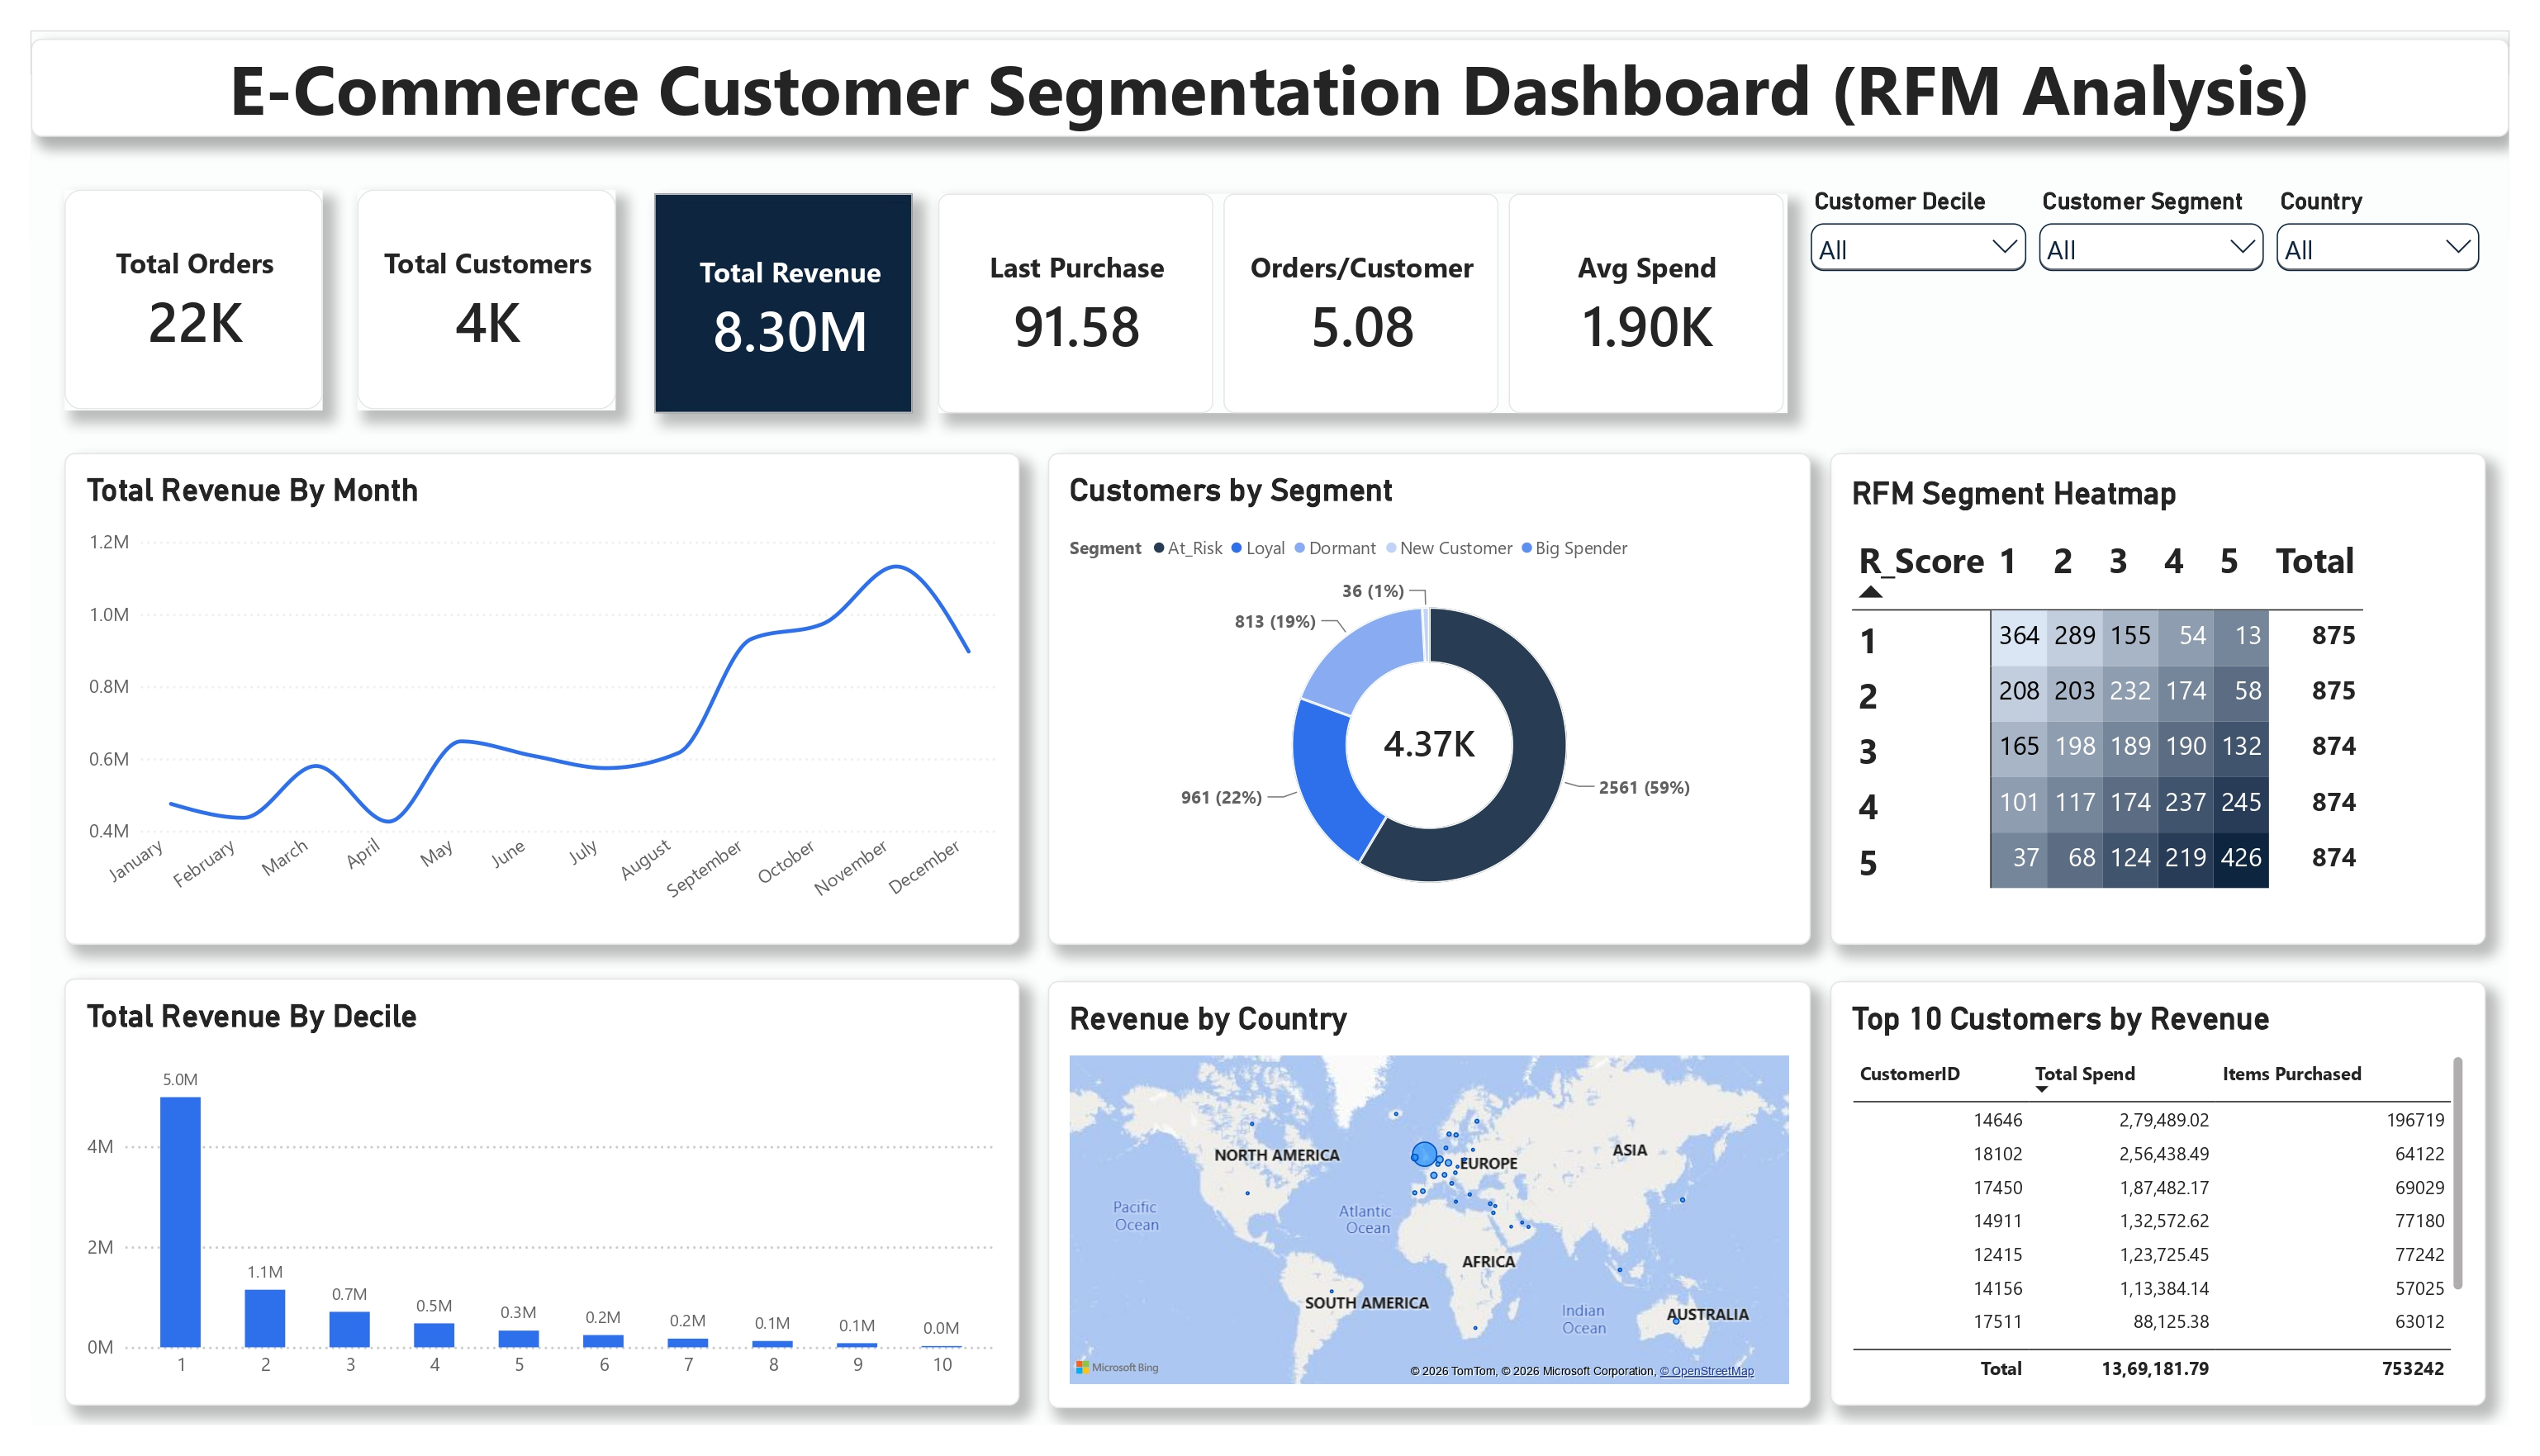

Layout of this report page (visuals, bound fields, positions):
{"tool":"powerbi","page":{"name":"Page 1","canvas":[1920,1080],"ordinal":0},"visuals":[{"type":"cardVisual","fields":{"Data":["cleaned_data.Total Orders"]},"box":[26,123.4,200,171],"z":0},{"type":"cardVisual","fields":{"Data":["cleaned_data.Total Customers"]},"box":[253.2,123.4,200,171],"z":1000},{"type":"cardVisual","fields":{"Data":["cleaned_data.Total Revenue"]},"box":[482.6,125.5,200,171],"z":2000},{"type":"cardVisual","fields":{"Data":["rfm_final_v2.Avg Recency","rfm_final_v2.Avg Frequency","rfm_final_v2.Avg Monetary"]},"box":[703.3,125.5,657.9,171],"z":3000},{"type":"pivotTable","title":"RFM Segment Heatmap","fields":{"Columns":["rfm_final_v2.F_Score"],"Rows":["rfm_final_v2.R_Score"],"Values":["CountNonNull(rfm_final_v2.CustomerID)"]},"box":[1393.7,326.8,508.6,380.9],"z":4000},{"type":"clusteredColumnChart","title":"Total Revenue By Decile","fields":{"Category":["rfm_final_v2.Decile"],"Y":["cleaned_data.Total Revenue"]},"box":[26,733.6,740.1,331.1],"z":5000},{"type":"lineChart","title":"Total Revenue By Month","fields":{"Category":["cleaned_data.InvoiceDate.Variation.Date Hierarchy.Month"],"Y":["cleaned_data.Total Revenue"]},"box":[26,326.8,740.1,380.9],"z":6000},{"type":"textbox","box":[0,6.5,1919.6,75.7],"z":7000},{"type":"slicer","fields":{"Values":["rfm_final_v2.Decile"]},"box":[1374,121.2,177.5,73.6],"z":8000},{"type":"slicer","fields":{"Values":["rfm_final_v2.Cust_Status"]},"box":[1551.5,121.2,184,73.6],"z":9000},{"type":"slicer","fields":{"Values":["cleaned_data.Country"]},"box":[1735.4,121.2,166.6,73.6],"z":10000},{"type":"donutChart","title":"Customers by Segment","fields":{"Category":["rfm_final_v2.Cust_Status"],"Y":["CountNonNull(rfm_final_v2.CustomerID)"]},"box":[787.7,326.8,590.8,380.9],"z":11000},{"type":"tableEx","title":"Top 10 Customers by Revenue","fields":{"Values":["rfm_final_v2.CustomerID","cleaned_data.Total Revenue","Sum(cleaned_data.Quantity)"]},"box":[1393.7,735.8,508.6,328.9],"z":12000},{"type":"map","title":"Revenue by Country","fields":{"Category":["cleaned_data.Country"],"Size":["cleaned_data.Total Revenue"]},"box":[787.7,735.8,590.8,331.1],"z":13000}]}

Visuals, with their boxes on the page's 1920x1080 design canvas (x1, y1, x2, y2). These are canvas units, not pixel positions in the 2540x1456 screenshot, which may show the page scaled, cropped or inside an application window:
cardVisual - cleaned_data.Total Orders: <box>26,123,226,294</box>
cardVisual - cleaned_data.Total Customers: <box>253,123,453,294</box>
cardVisual - cleaned_data.Total Revenue: <box>483,126,683,296</box>
cardVisual - rfm_final_v2.Avg Recency x rfm_final_v2.Avg Frequency: <box>703,126,1361,296</box>
"RFM Segment Heatmap" pivotTable: <box>1394,327,1902,708</box>
"Total Revenue By Decile" clusteredColumnChart: <box>26,734,766,1065</box>
"Total Revenue By Month" lineChart: <box>26,327,766,708</box>
textbox: <box>0,6,1920,82</box>
slicer - rfm_final_v2.Decile: <box>1374,121,1552,195</box>
slicer - rfm_final_v2.Cust_Status: <box>1552,121,1736,195</box>
slicer - cleaned_data.Country: <box>1735,121,1902,195</box>
"Customers by Segment" donutChart: <box>788,327,1378,708</box>
"Top 10 Customers by Revenue" tableEx: <box>1394,736,1902,1065</box>
"Revenue by Country" map: <box>788,736,1378,1067</box>
